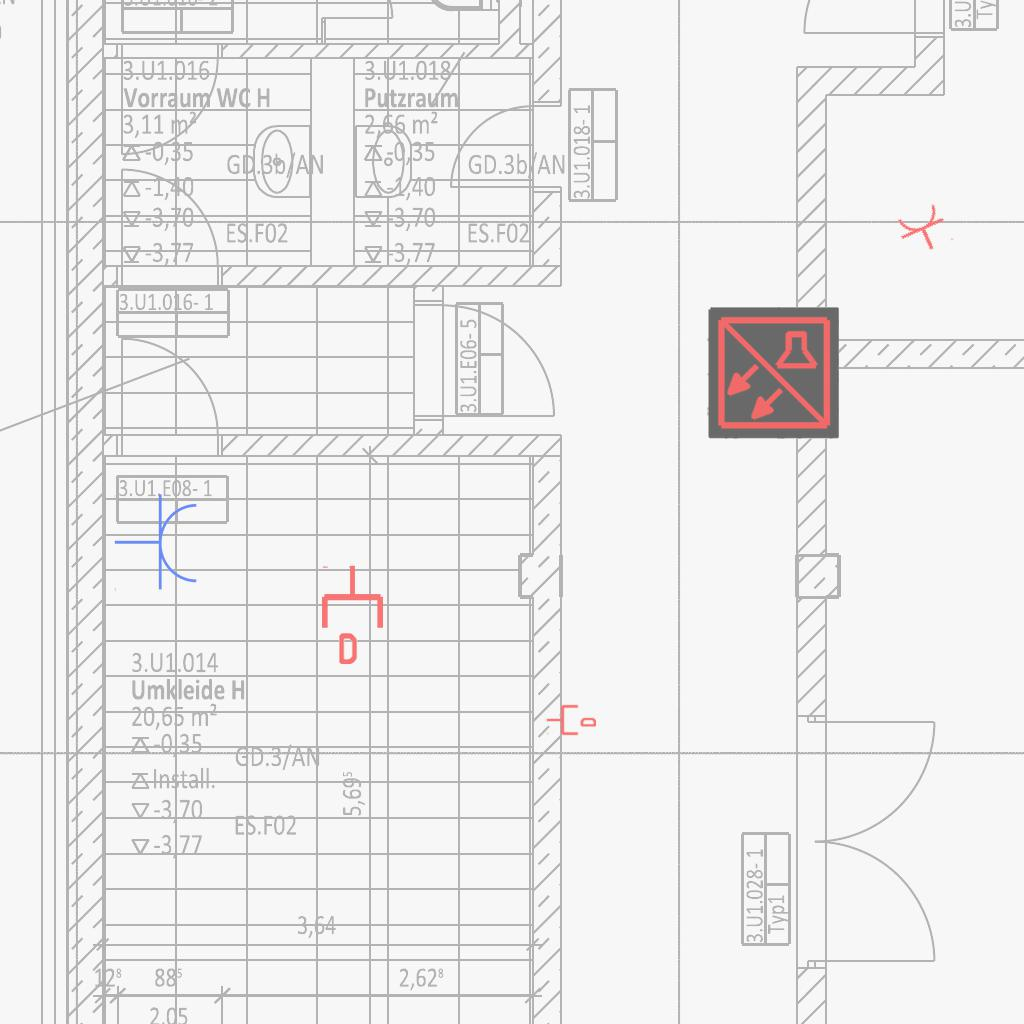Datenanschluss_einfach: (318, 564, 387, 664), (546, 703, 596, 737)
OKW_Multisensormelder_(Kombination_optischer_Rauch-Kahlenmonoxid_Waerme-Melder): (707, 307, 839, 439)
Schukosteckdose_einfach: (114, 493, 201, 593), (892, 200, 957, 260)
